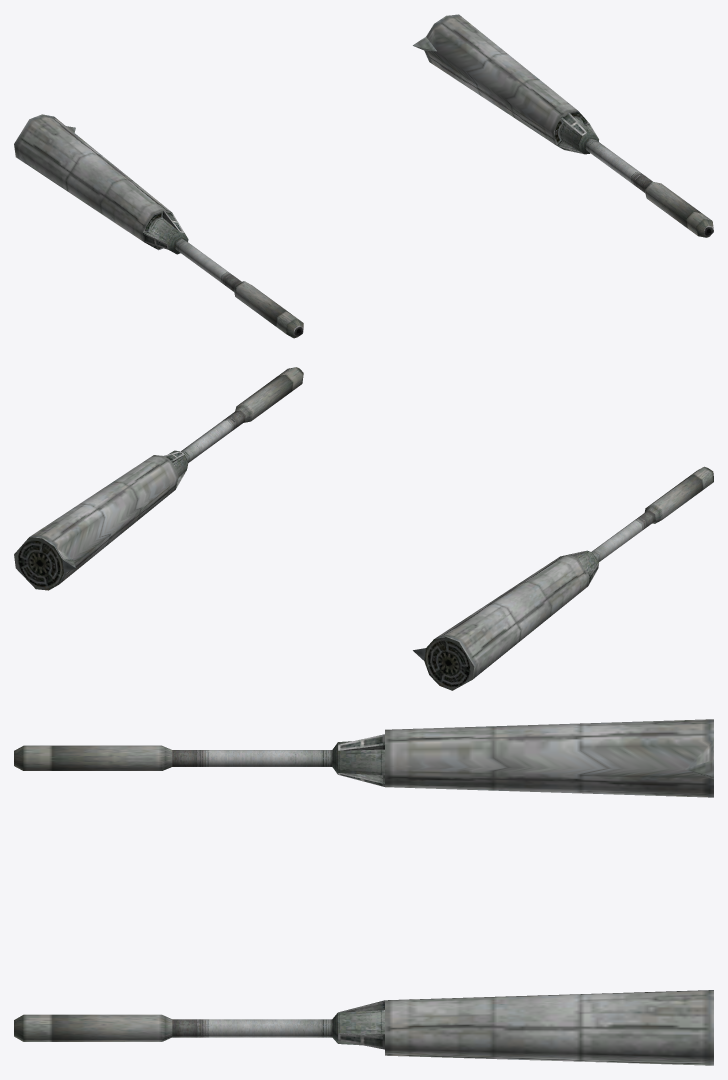
File: hutt_fighter_heavy_weapon1_s05_l1.fbx
The picture shows the model from 3 angles, top to bottom: view 1: azimuth 30°, elevation 25°; view 2: azimuth 150°, elevation 25°; view 3: azimuth 270°, elevation 25°; orthographic projection. The views are drawn at different scales.
Parts seen in each view (by area): view 1: mesh_node; view 2: mesh_node; view 3: mesh_node.
Boxes of the visible parts, x1,y1,x2,y2 form: mesh_node: (14,14,713,338); mesh_node: (14,367,713,690); mesh_node: (14,719,713,1065).
Bounding box in the file's own units: 2.67 × 0.2902 × 2.61.
Materials: 1 (1 with a texture image).
